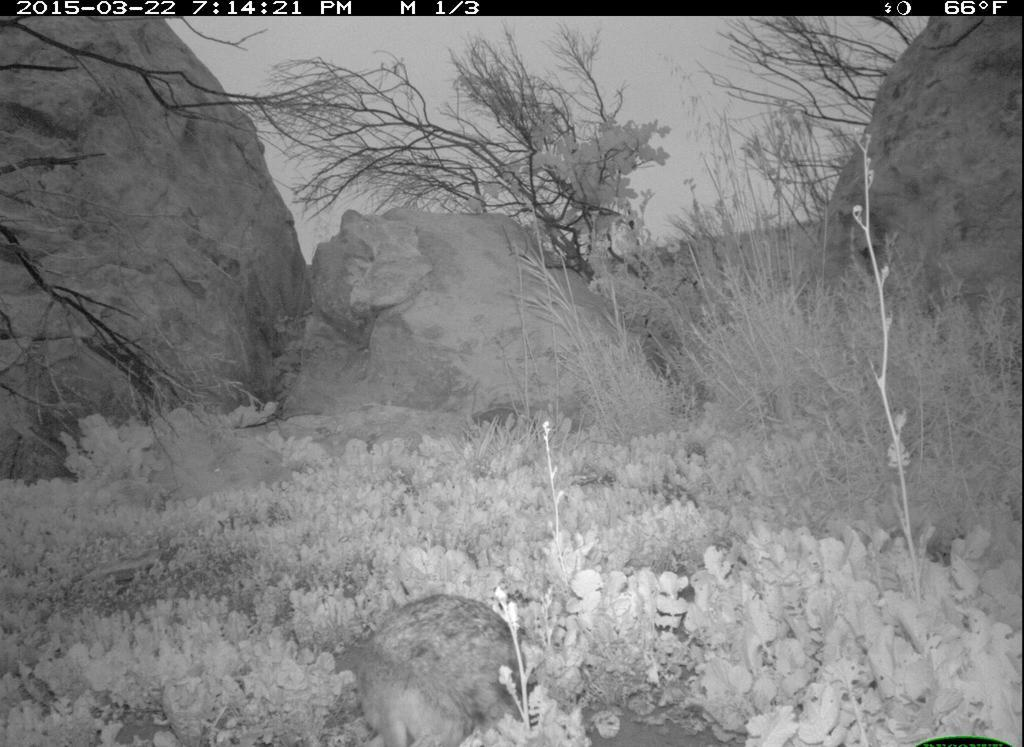rabbit: (322, 583, 534, 747)
